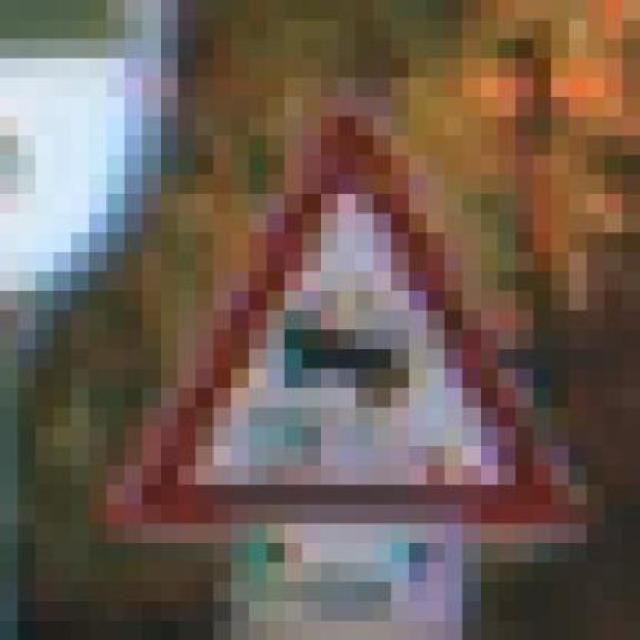Slippery Road Ahead: (106, 97, 605, 543)
